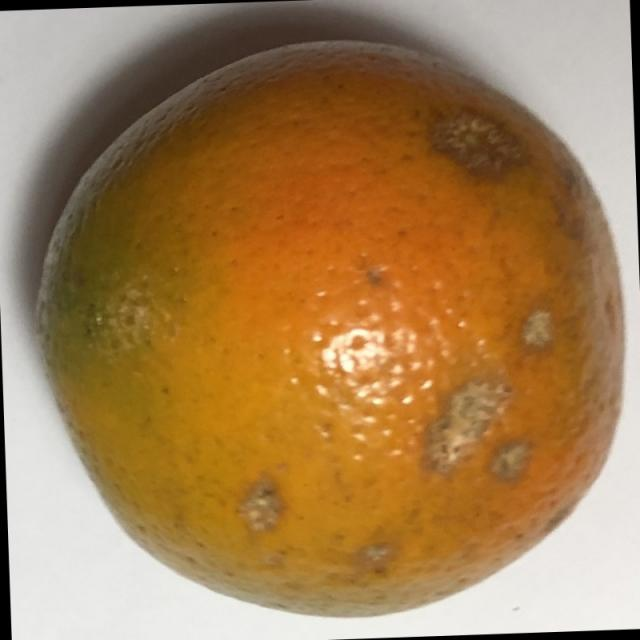canker: (22, 26, 637, 625)
